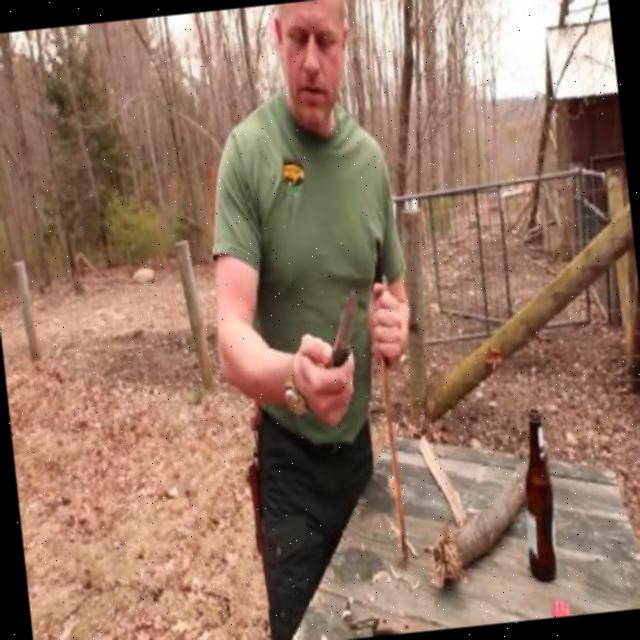Knife: (318, 284, 372, 384)
